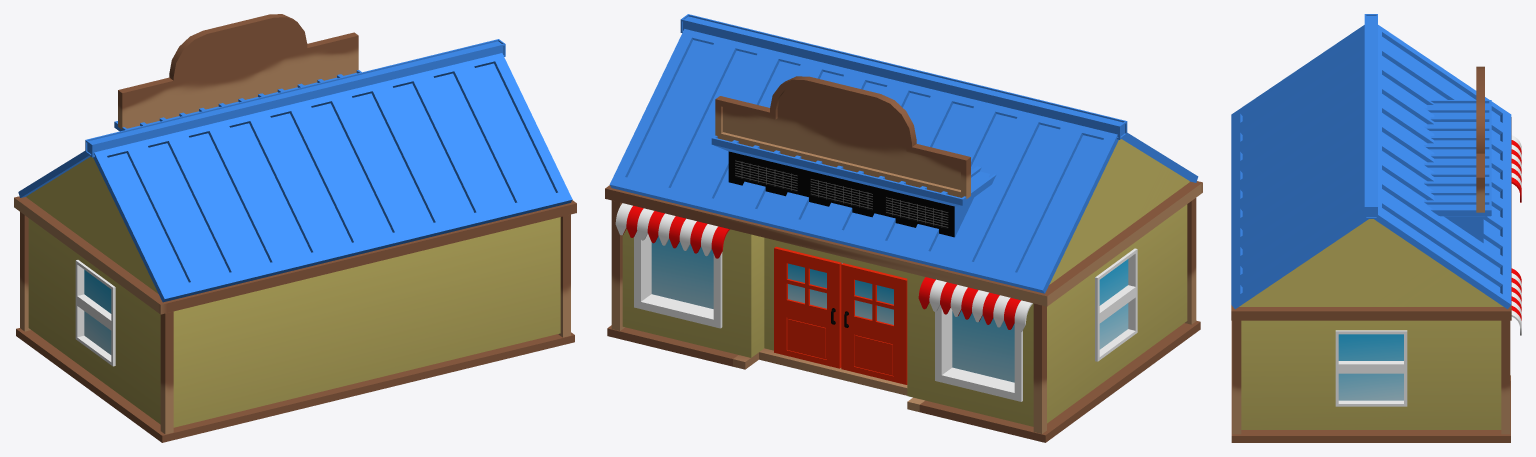
File: house3.fbx
The picture shows the model from 3 angles, left to right: view 1: azimuth 30°, elevation 25°; view 2: azimuth 150°, elevation 25°; view 3: azimuth 270°, elevation 25°; orthographic projection. The views are drawn at different scales.
Visible parts, largest first — view 1: Cube.007; view 2: Cube.007, Cube.009, Cube.017; view 3: Cube.007.
Boxes of the visible parts, x1,y1,x2,y2 form: Cube.007: [14, 14, 576, 442]; Cube.007: [605, 14, 1202, 442]; Cube.009: [774, 246, 841, 368]; Cube.017: [841, 263, 907, 384]; Cube.007: [1231, 14, 1521, 442].
Size of the model in its own units: 670 by 420 by 423.
Materials: 9 (3 with a texture image).
